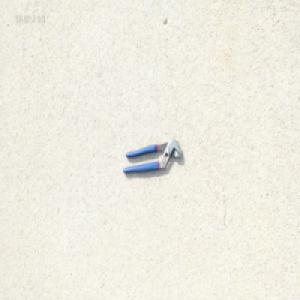Pliers: (121, 135, 181, 173)
